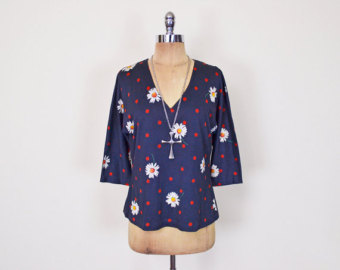C_blouse: (91, 49, 245, 247)
